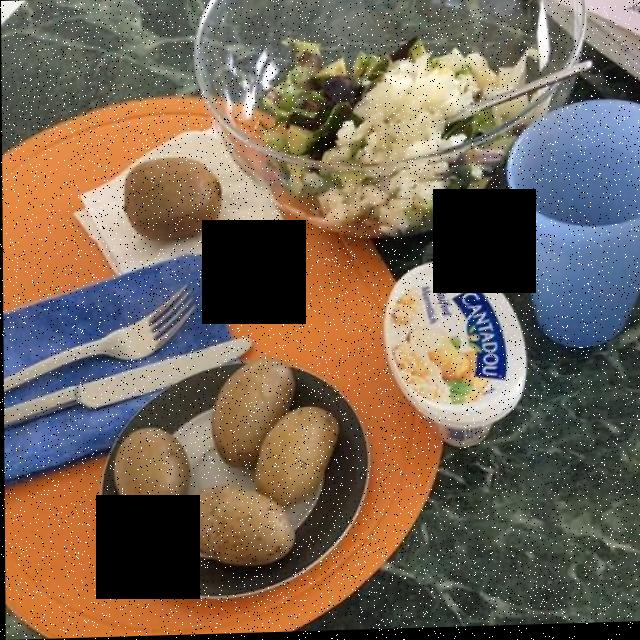cucumber: (249, 44, 498, 223)
kiwi: (114, 153, 229, 260)
onion: (311, 58, 537, 230)
potatoes-steamed: (87, 355, 347, 582)
water: (512, 146, 636, 363)
